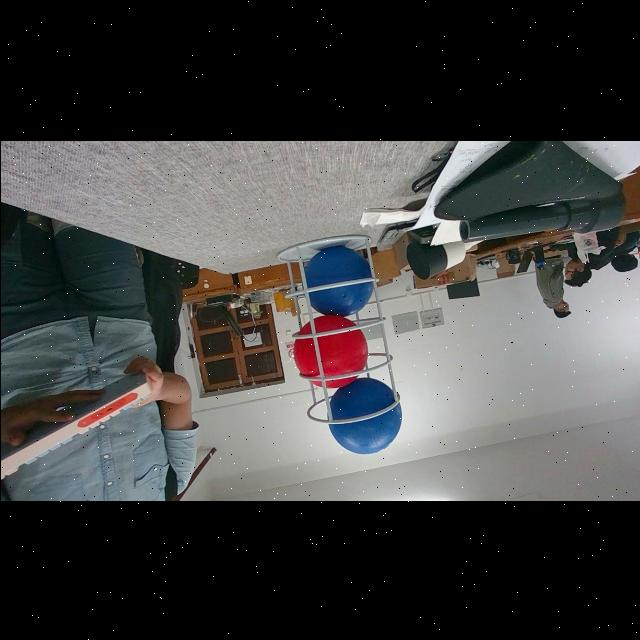B: (326, 378, 402, 452), (302, 244, 372, 316)
R: (292, 316, 368, 388)
S: (275, 233, 399, 422)
